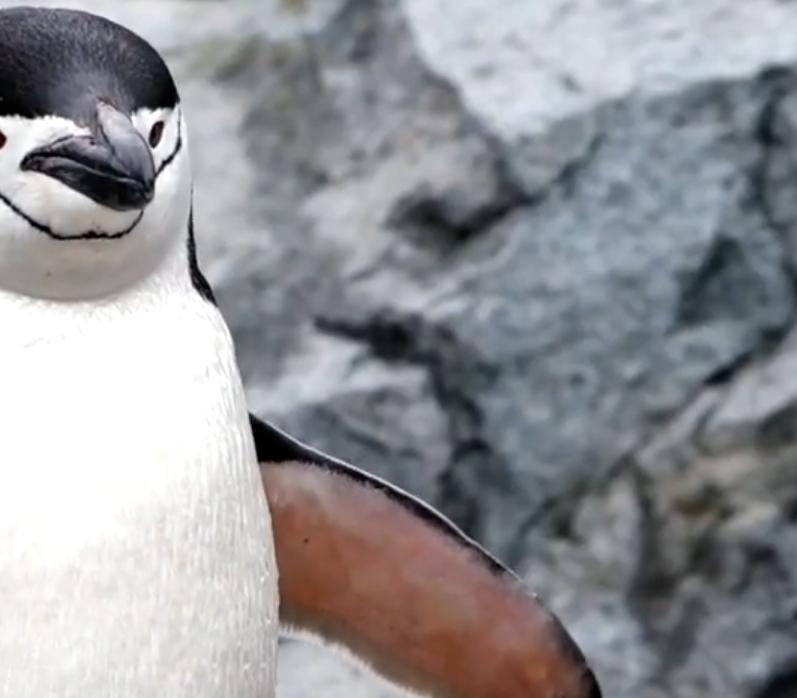Chinstrap Penguin: (0, 0, 600, 698)
